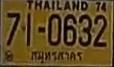0: (47, 13, 61, 45)
1: (26, 12, 30, 46)
2: (93, 14, 106, 46)
3: (78, 14, 91, 46)
6: (63, 14, 76, 45)
7: (6, 12, 19, 45)
SKN: (26, 48, 85, 65)
